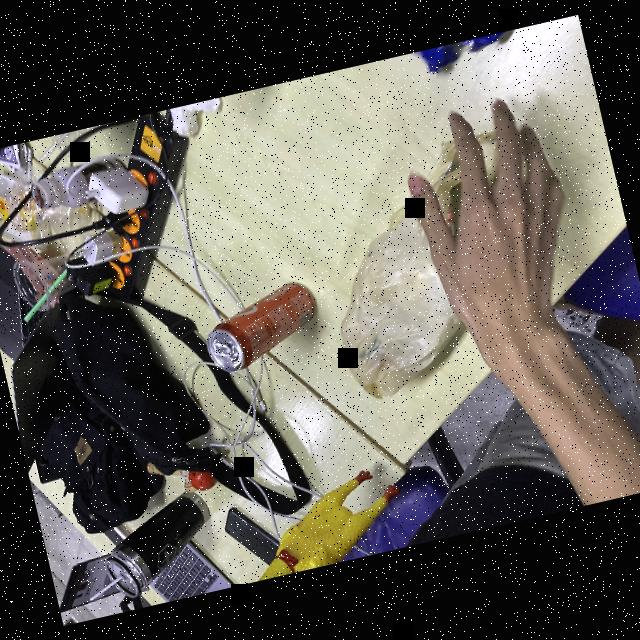can: (194, 274, 327, 377)
plastic_bag: (298, 124, 561, 406)
plastic_bottle: (25, 150, 134, 218)
plastic_box: (0, 163, 56, 259)
plastic_cup: (8, 244, 98, 322)
scrap_paper: (162, 96, 230, 139)
snack_bag: (408, 31, 512, 80)
straw: (11, 263, 80, 321)
